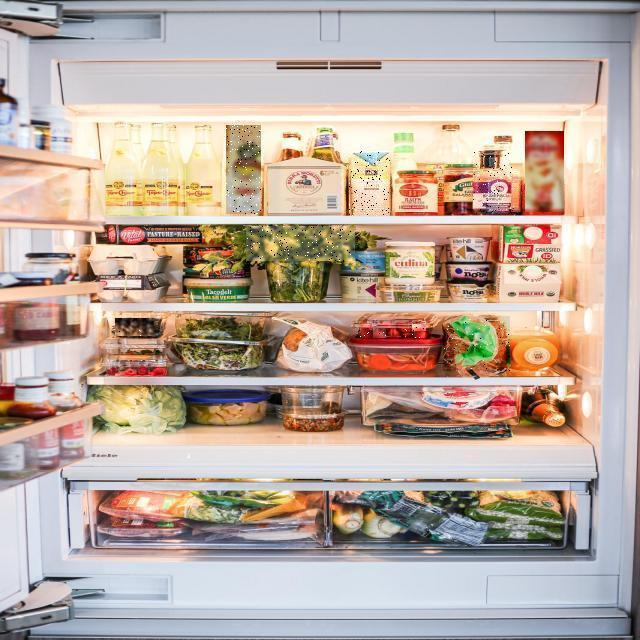Blue Berries: (116, 319, 158, 337)
Bread: (443, 316, 510, 371)
Milk: (226, 126, 261, 216), (349, 151, 390, 216)
Parsley: (246, 226, 355, 261)
Sauce: (525, 132, 564, 214), (474, 151, 518, 212)
Tomato Paste: (373, 328, 386, 338), (359, 330, 373, 338), (396, 322, 408, 331), (412, 324, 426, 331), (401, 332, 414, 338), (414, 332, 425, 338)
